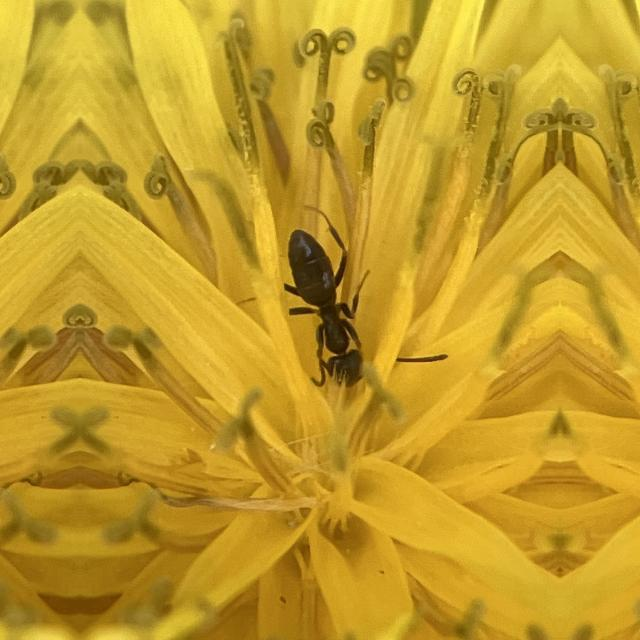Tapinoma: (263, 203, 392, 409)
